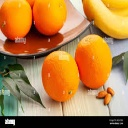orange: (42, 47, 80, 104)
